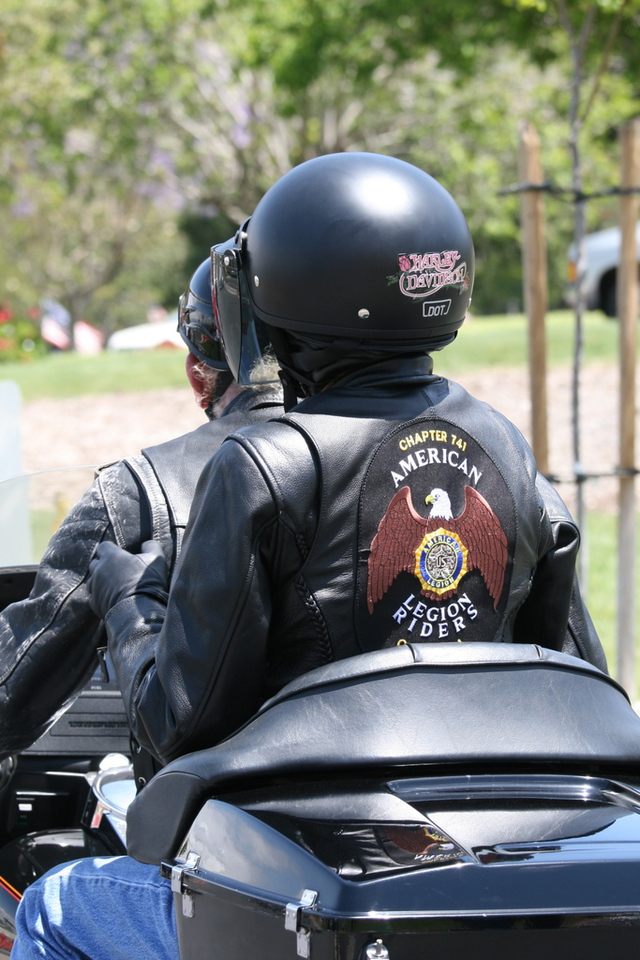helmet: (224, 152, 493, 342)
